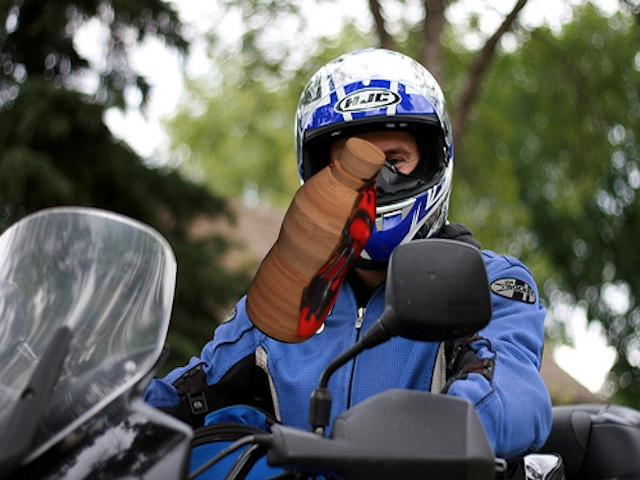bottle: (240, 128, 401, 353)
